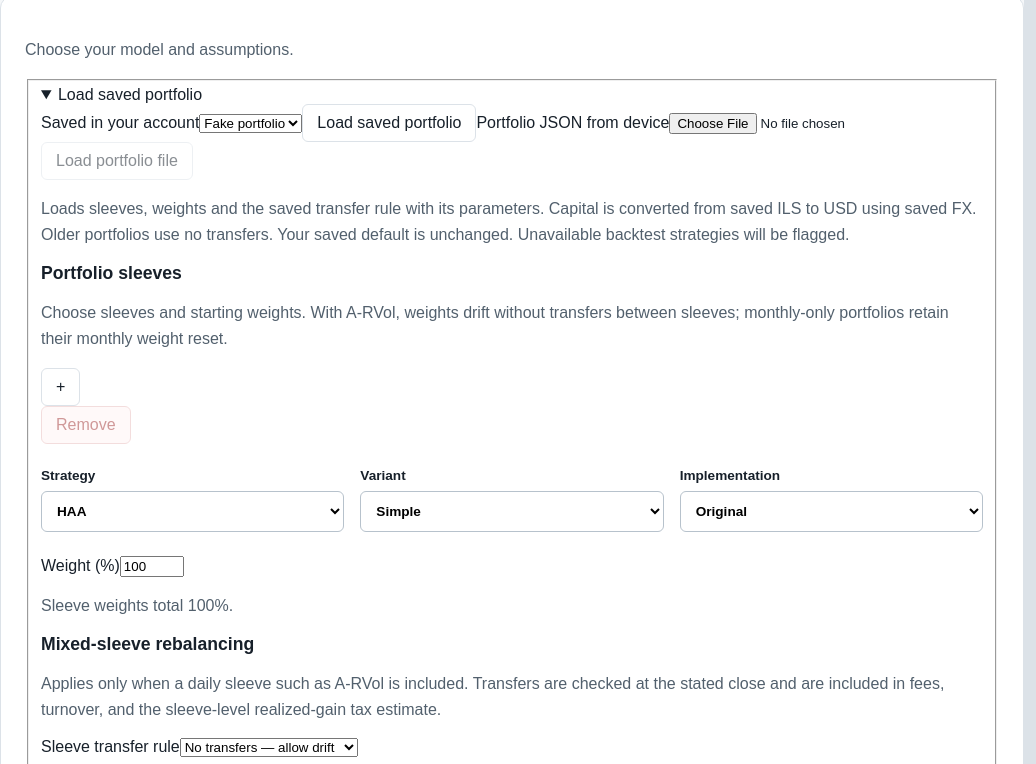
Test case: loads saved choices and Python-converted capital without running or saving
Expected: the text "Sleeve weights total 100%." is shown, x1=41 y1=597 x2=233 y2=614
Click the button "Load saved portfolio": x=389, y=123 x1=302 y1=104 x2=476 y2=142
(page scrolled)
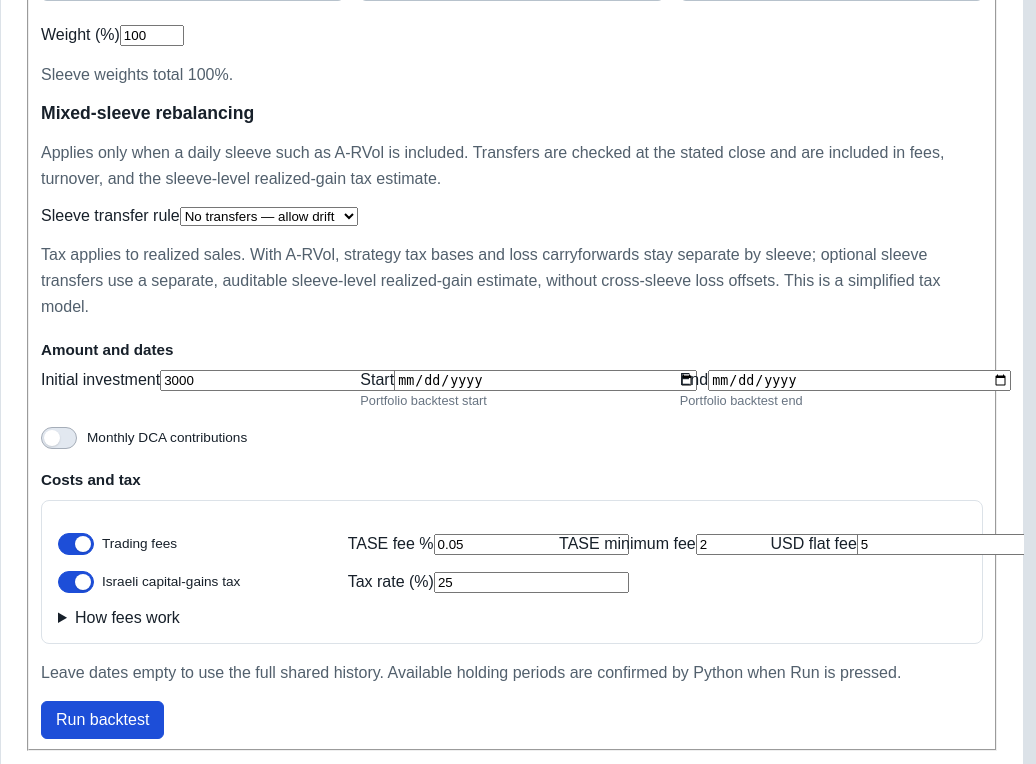
Expected: the number field labelled "Initial investment" holds "3000", x1=160 y1=370 x2=464 y2=391
